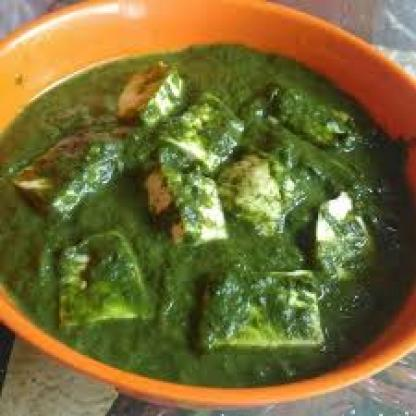palak_paneer: (0, 43, 416, 388)
